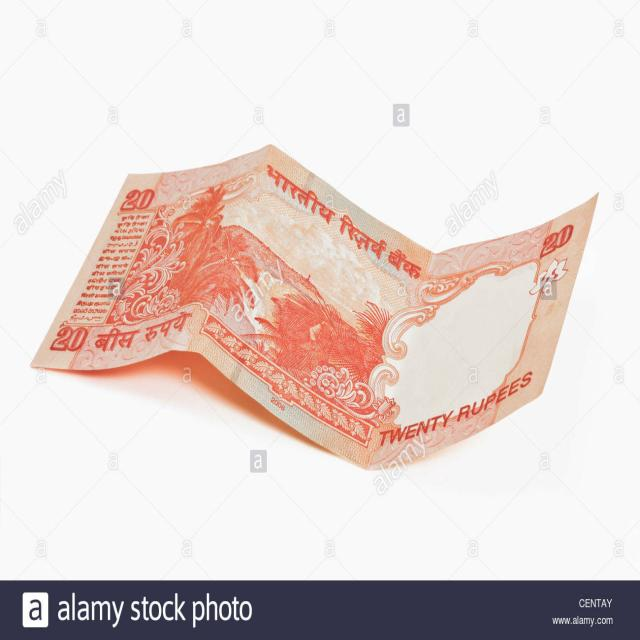20IndianRupees: (33, 145, 599, 458)
